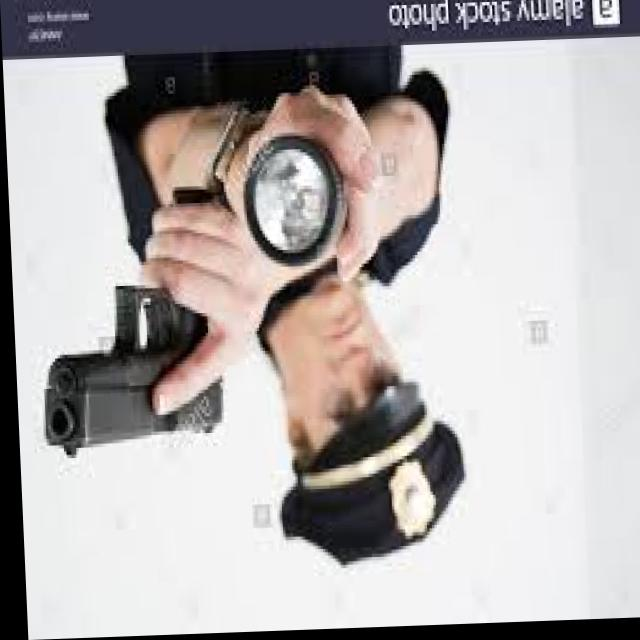handgun: (29, 183, 226, 463)
